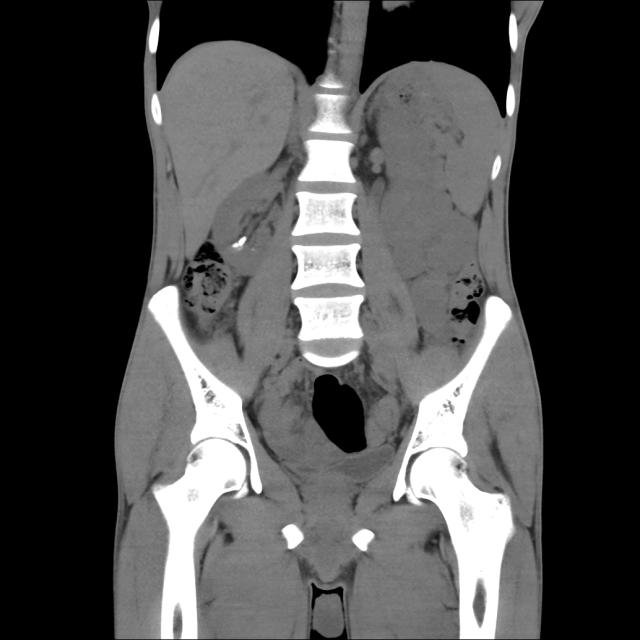kidneystone: (231, 236, 248, 249)
